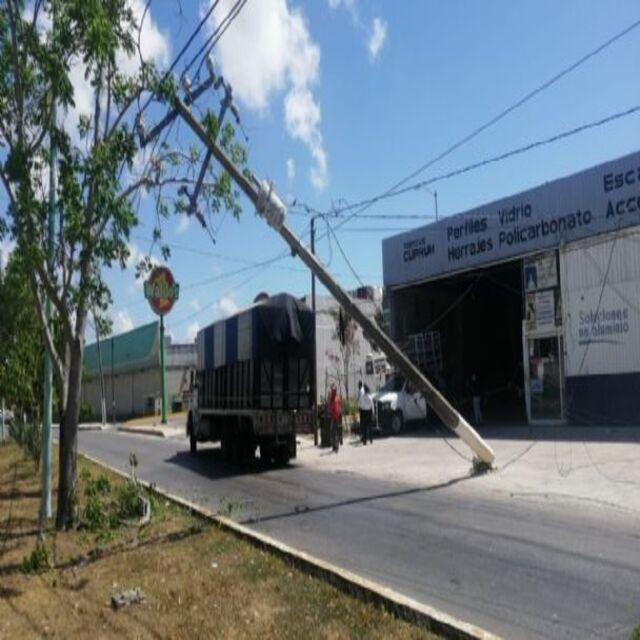Inclined Pole: (123, 47, 505, 471)
